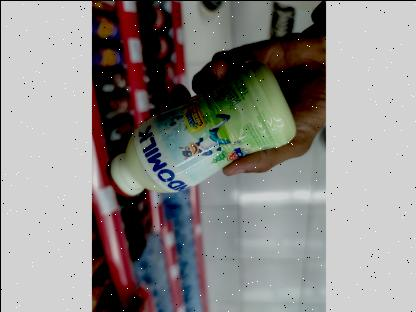Others: (92, 50, 312, 216)
